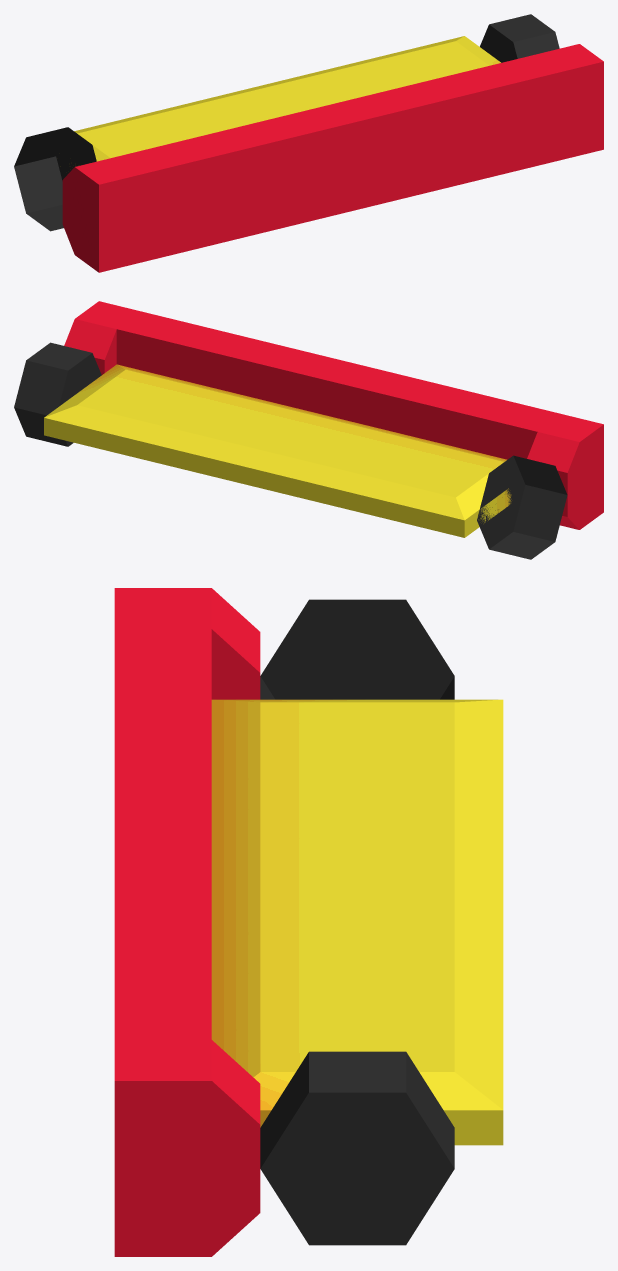
The model's file is CountdownLift.fbx.
3 renders of one model, top to bottom at view 1: azimuth 30°, elevation 25°; view 2: azimuth 150°, elevation 25°; view 3: azimuth 270°, elevation 25°, orthographic. The views are drawn at different scales.
Parts seen in each view (by area): view 1: Head, Body, Bolt; view 2: Body, Head, Bolt; view 3: Body, Head, Bolt.
Part boxes in pixels (box(x1,y1,x2,y2)): Head: box(62, 44, 603, 272); Body: box(60, 36, 500, 166); Bolt: box(14, 14, 559, 231); Body: box(44, 364, 511, 537); Head: box(64, 301, 603, 529); Bolt: box(14, 342, 567, 559); Body: box(211, 699, 503, 1145); Head: box(114, 588, 260, 1256); Bolt: box(260, 599, 454, 1245).
Size of the model in its own units: 600 by 100 by 200.
2 materials, 2 textured.
